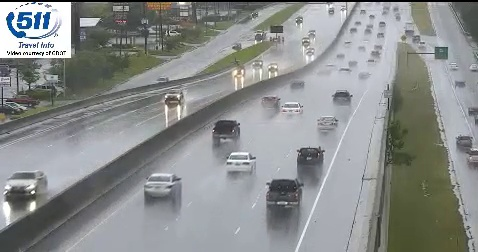car: (266, 178, 302, 208), (144, 173, 181, 197), (227, 152, 255, 172), (212, 120, 239, 140), (297, 147, 322, 167), (281, 102, 302, 117), (318, 117, 337, 131)
